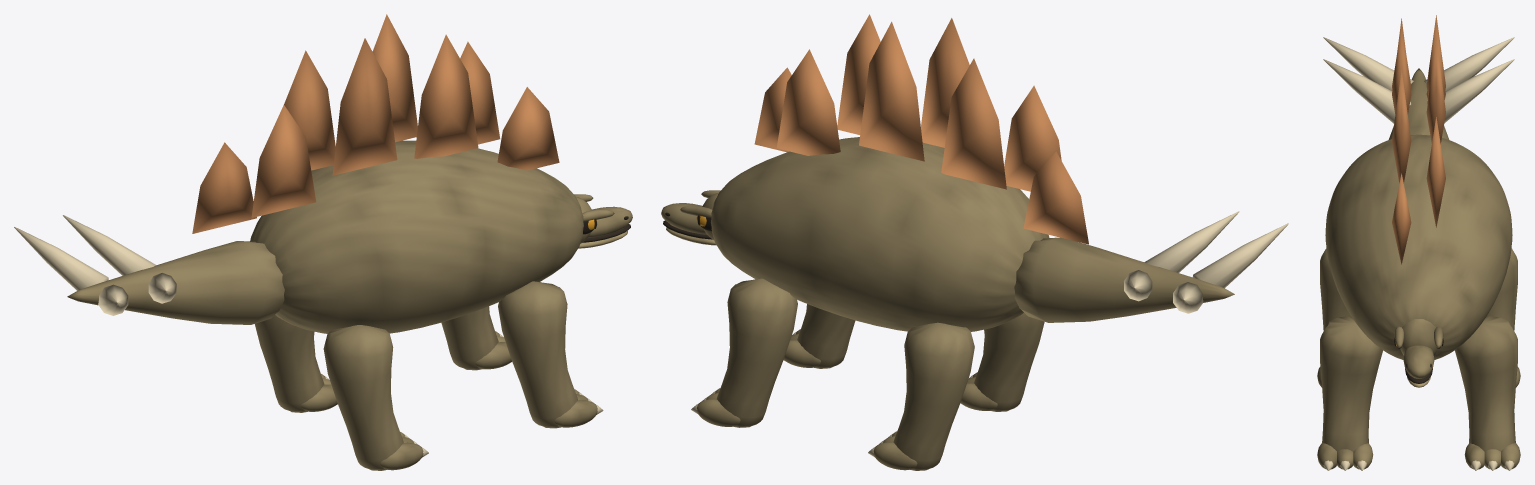
File: stego.glb
3 renders of one model, left to right at view 1: azimuth 30°, elevation 25°; view 2: azimuth 150°, elevation 25°; view 3: azimuth 270°, elevation 25°, orthographic. The views are drawn at different scales.
Parts seen in each view (by area): view 1: Body.002_Painted reptile hide.003, Body.002_Painted keratin.003, Tail.002_Painted reptile hide.003, Leg2_Painted reptile hide.003, Leg1.002_Painted reptile hide.003, Leg0.002_Painted reptile hide.003, Tail.002_Warm ivory claws.003, Leg3_Painted reptile hide.003, Head.002_Painted reptile hide.003; view 2: Body.002_Painted reptile hide.003, Body.002_Painted keratin.003, Tail.002_Painted reptile hide.003, Leg0.002_Painted reptile hide.003, Leg3_Painted reptile hide.003, Leg2_Painted reptile hide.003, Tail.002_Warm ivory claws.003, Leg1.002_Painted reptile hide.003, Head.002_Painted reptile hide.003; view 3: Body.002_Painted reptile hide.003, Leg3_Painted reptile hide.003, Leg1.002_Painted reptile hide.003, Body.002_Painted keratin.003, Tail.002_Warm ivory claws.003, Head.002_Painted reptile hide.003, Leg2_Painted reptile hide.003, Leg0.002_Painted reptile hide.003, Tail.002_Painted reptile hide.003, Leg1.002_Warm ivory claws.003, Leg3_Warm ivory claws.003.
Boxes of the visible parts, left/top/right/bottom form: Body.002_Painted reptile hide.003: left=250, top=140, right=583, bottom=333; Body.002_Painted keratin.003: left=192, top=14, right=559, bottom=233; Tail.002_Painted reptile hide.003: left=67, top=241, right=284, bottom=324; Leg2_Painted reptile hide.003: left=323, top=325, right=423, bottom=470; Leg1.002_Painted reptile hide.003: left=498, top=281, right=597, bottom=428; Leg0.002_Painted reptile hide.003: left=255, top=315, right=337, bottom=412; Tail.002_Warm ivory claws.003: left=14, top=215, right=176, bottom=315; Leg3_Painted reptile hide.003: left=441, top=306, right=511, bottom=370; Head.002_Painted reptile hide.003: left=574, top=194, right=632, bottom=248; Body.002_Painted reptile hide.003: left=711, top=137, right=1049, bottom=331; Body.002_Painted keratin.003: left=754, top=14, right=1088, bottom=244; Tail.002_Painted reptile hide.003: left=1014, top=237, right=1234, bottom=322; Leg0.002_Painted reptile hide.003: left=873, top=322, right=974, bottom=470; Leg3_Painted reptile hide.003: left=696, top=278, right=797, bottom=427; Leg2_Painted reptile hide.003: left=960, top=313, right=1044, bottom=411; Tail.002_Warm ivory claws.003: left=1124, top=211, right=1288, bottom=313; Leg1.002_Painted reptile hide.003: left=783, top=304, right=855, bottom=368; Head.002_Painted reptile hide.003: left=661, top=190, right=720, bottom=245; Body.002_Painted reptile hide.003: left=1325, top=134, right=1512, bottom=359; Leg3_Painted reptile hide.003: left=1455, top=316, right=1520, bottom=469; Leg1.002_Painted reptile hide.003: left=1317, top=316, right=1382, bottom=469; Body.002_Painted keratin.003: left=1392, top=15, right=1445, bottom=264; Tail.002_Warm ivory claws.003: left=1323, top=37, right=1514, bottom=123; Head.002_Painted reptile hide.003: left=1394, top=319, right=1443, bottom=387; Leg2_Painted reptile hide.003: left=1317, top=248, right=1351, bottom=387; Leg0.002_Painted reptile hide.003: left=1486, top=248, right=1520, bottom=387; Tail.002_Painted reptile hide.003: left=1388, top=68, right=1449, bottom=139; Leg1.002_Warm ivory claws.003: left=1323, top=460, right=1366, bottom=470; Leg3_Warm ivory claws.003: left=1471, top=460, right=1514, bottom=470.
Bounding box in the file's own units: 2.8 × 1.9 × 0.938.
